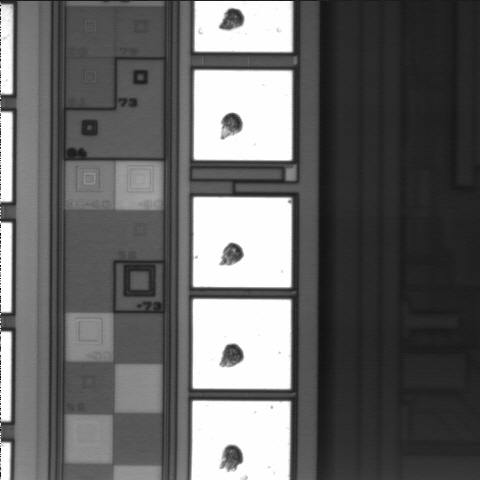pad: (193, 197, 292, 287), (194, 70, 292, 160), (193, 299, 291, 389)
